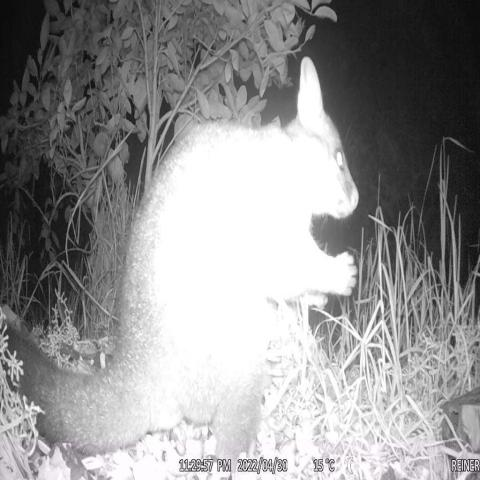small_animal: (2, 53, 361, 454)
